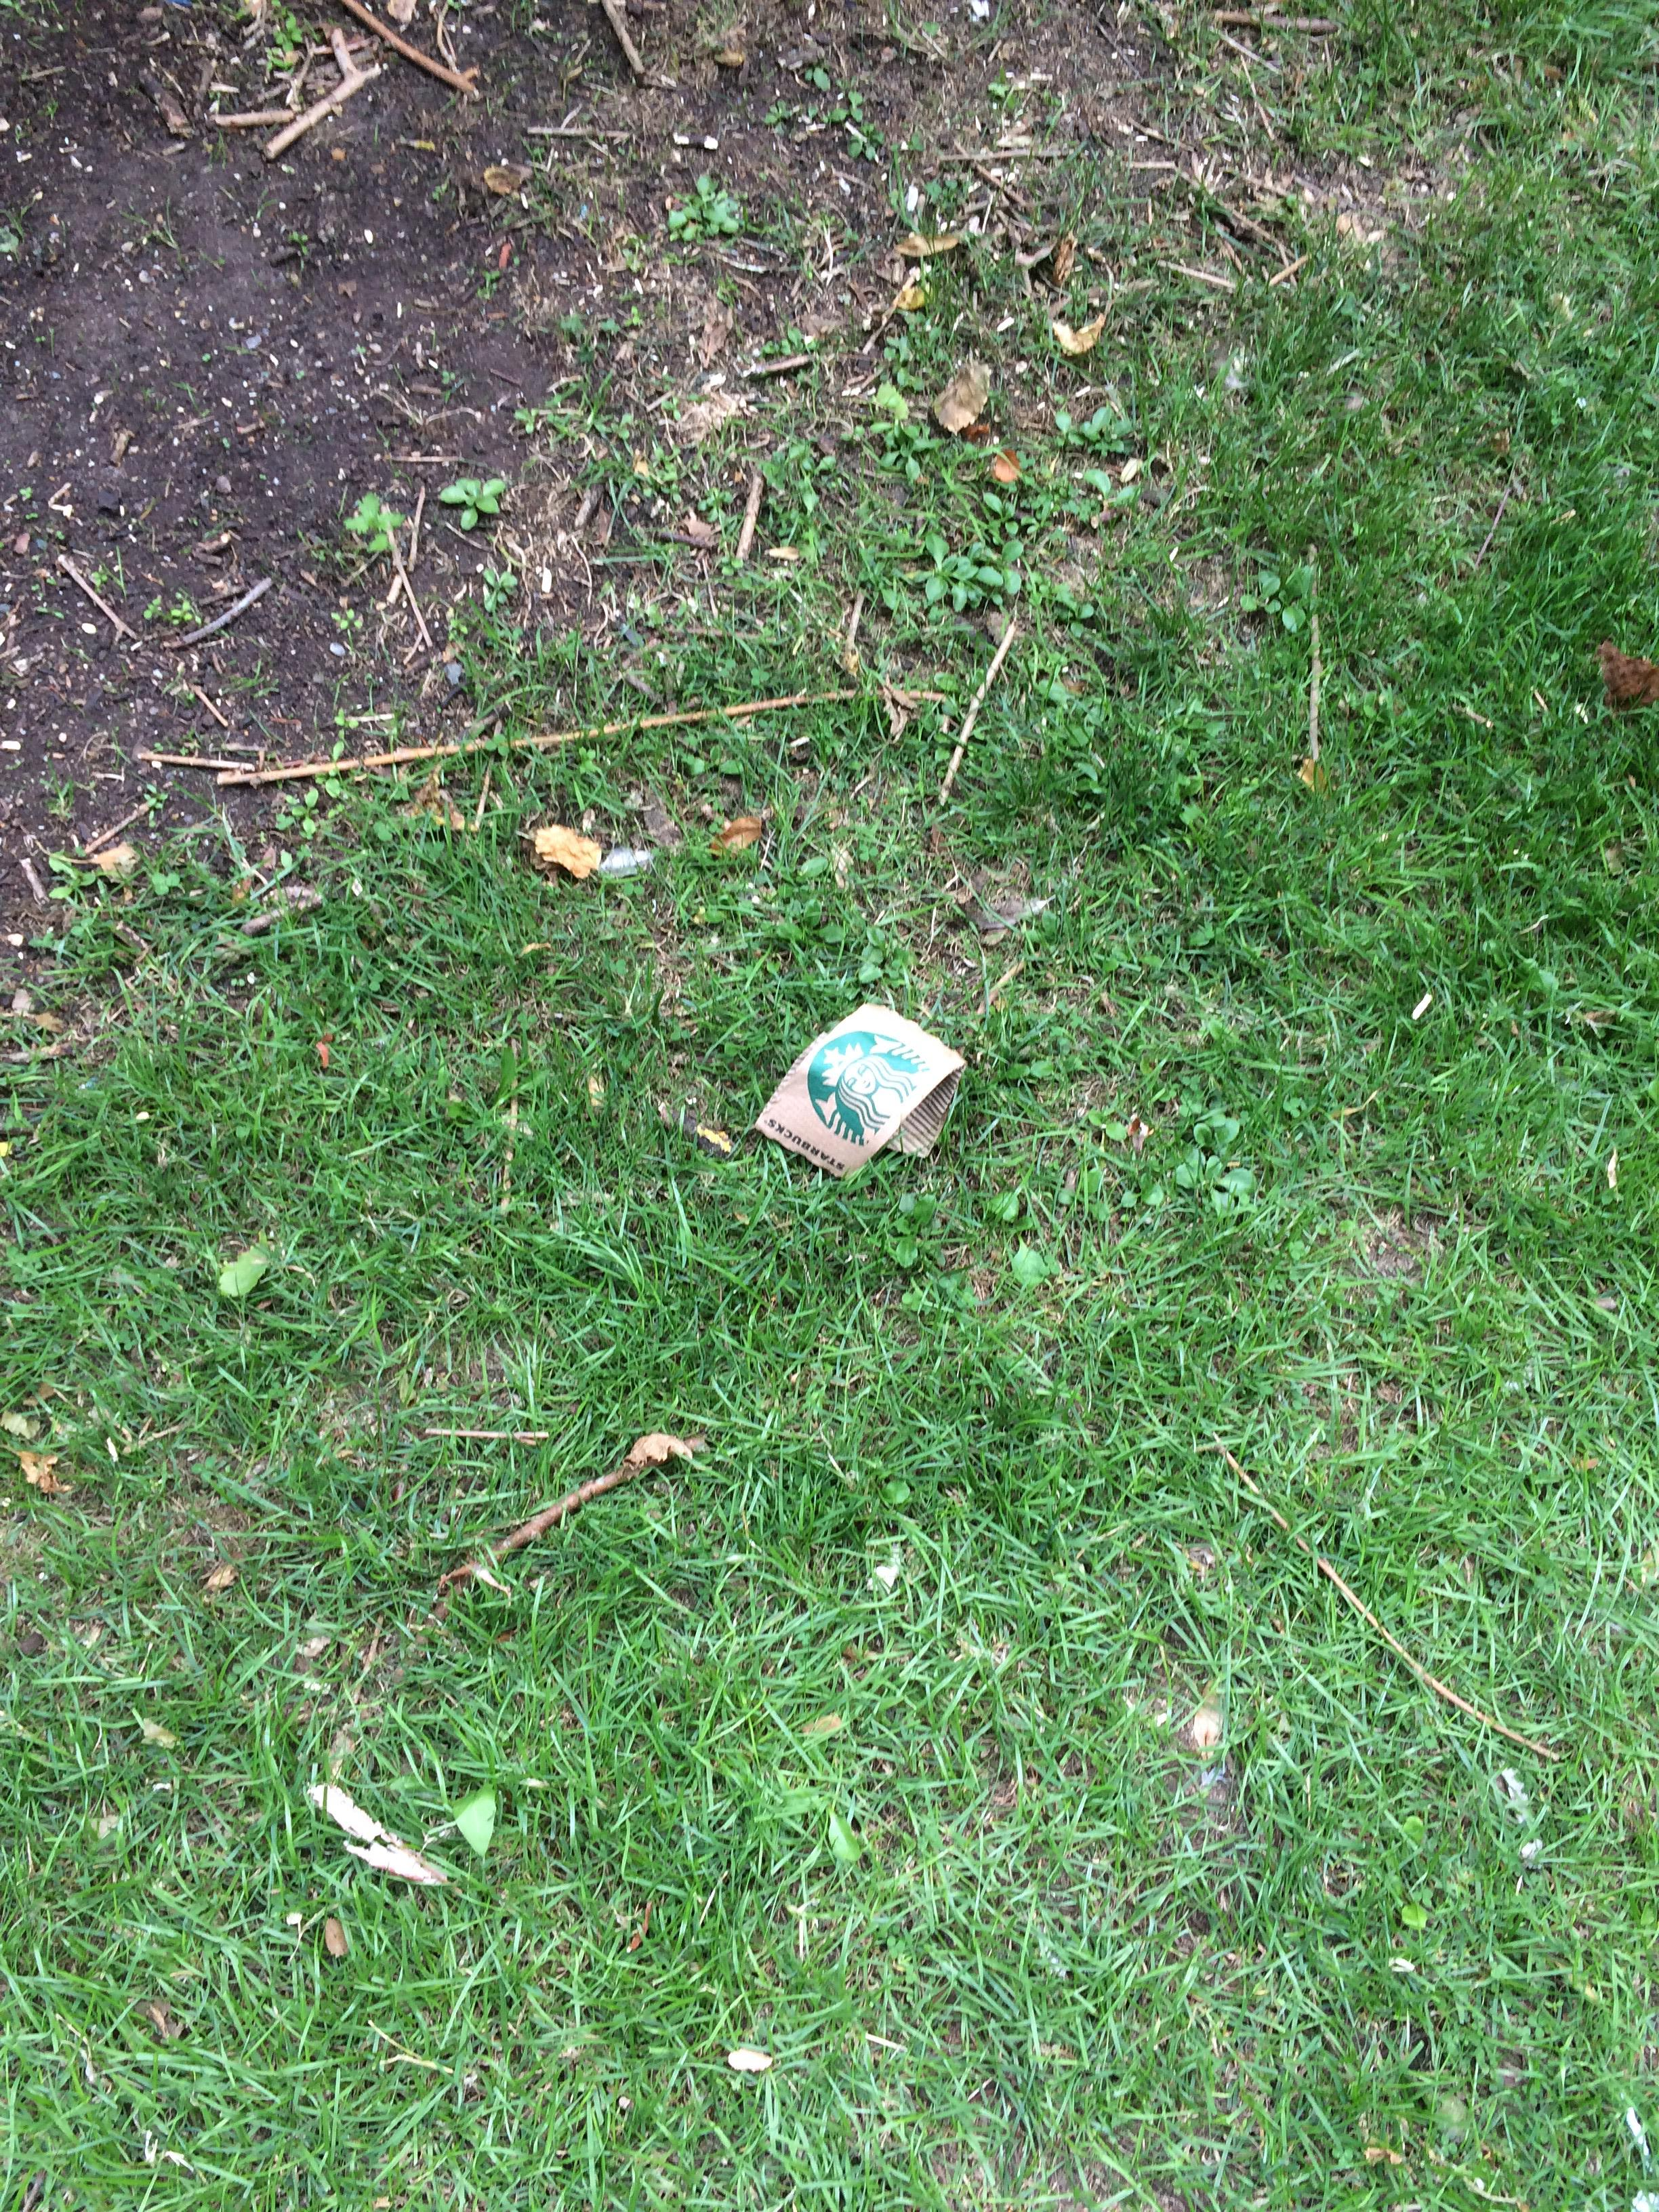Trash: (744, 989, 969, 1165)
